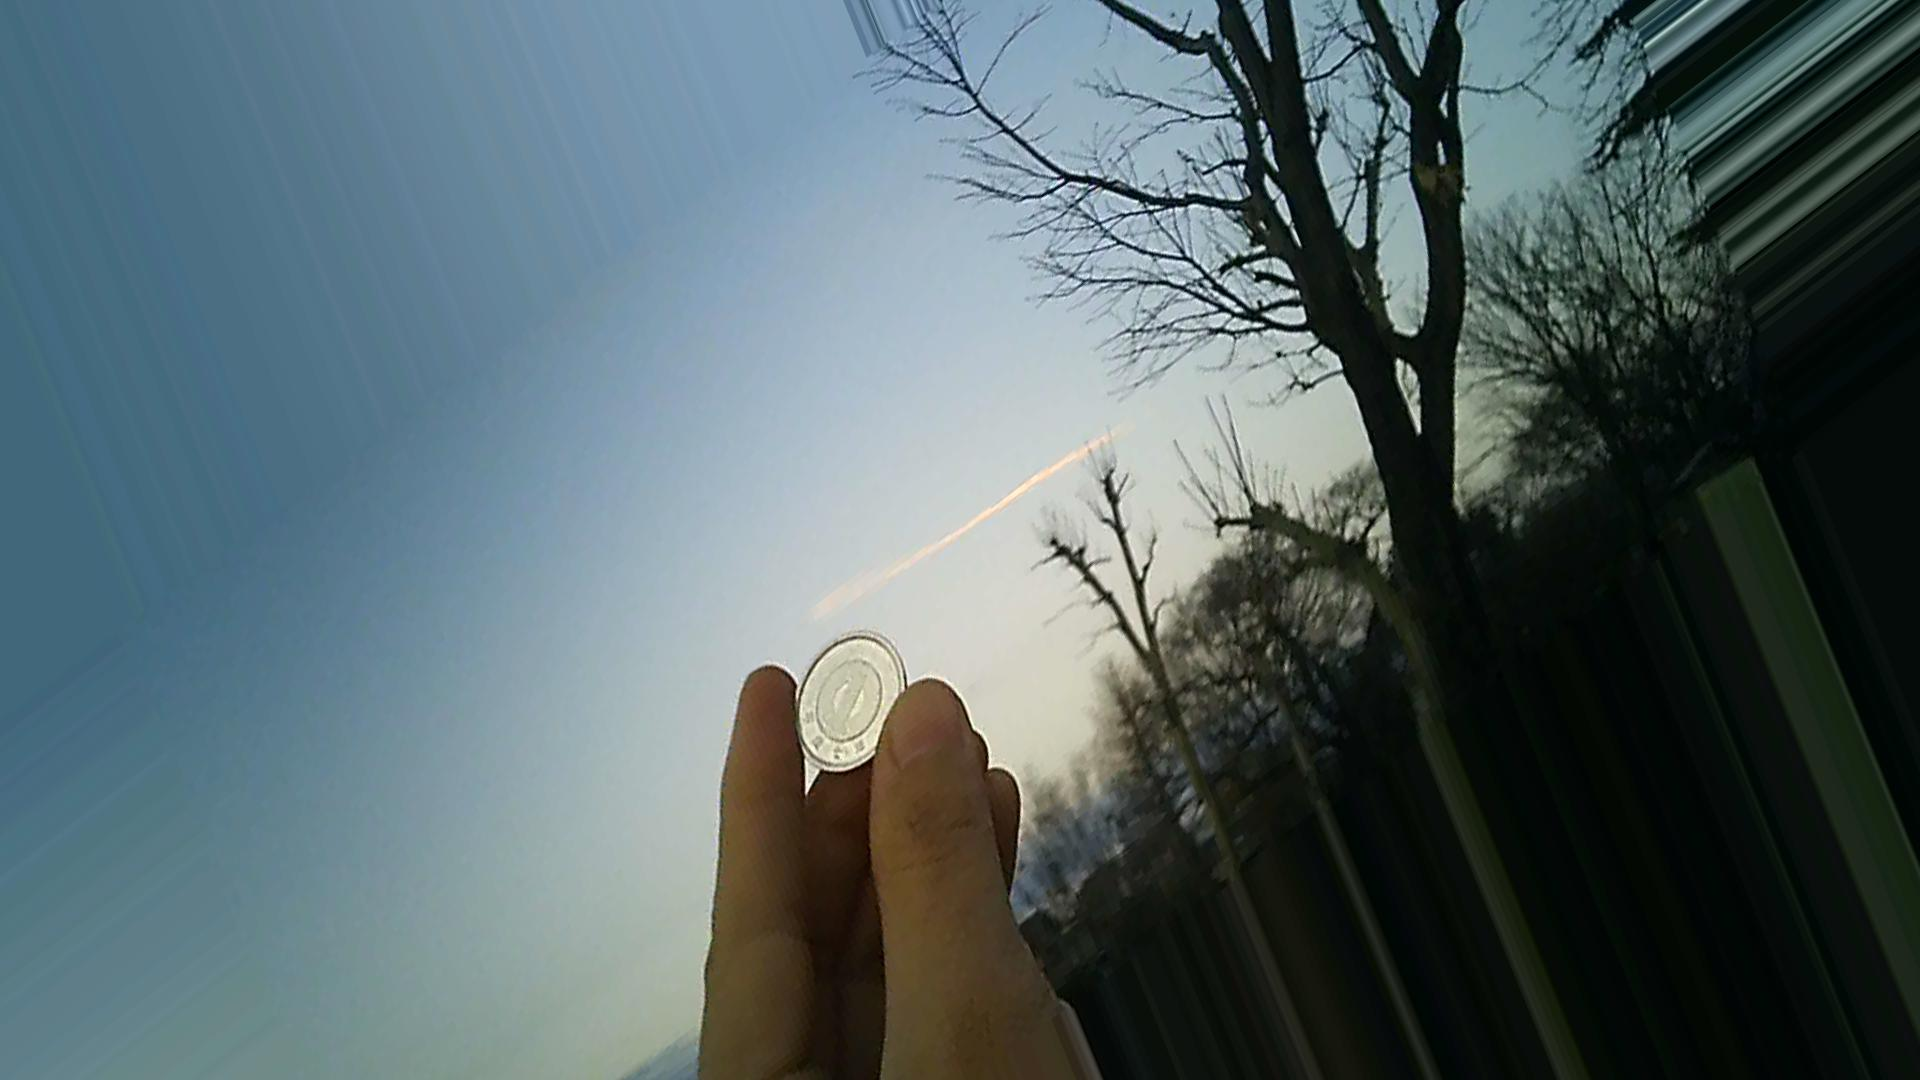1 Yen: (781, 629, 911, 765)
